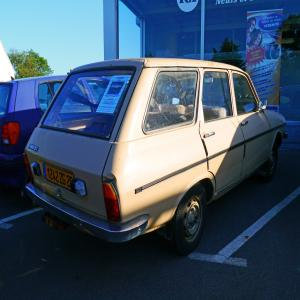Vehicle-registration-plate: (38, 167, 71, 197)
